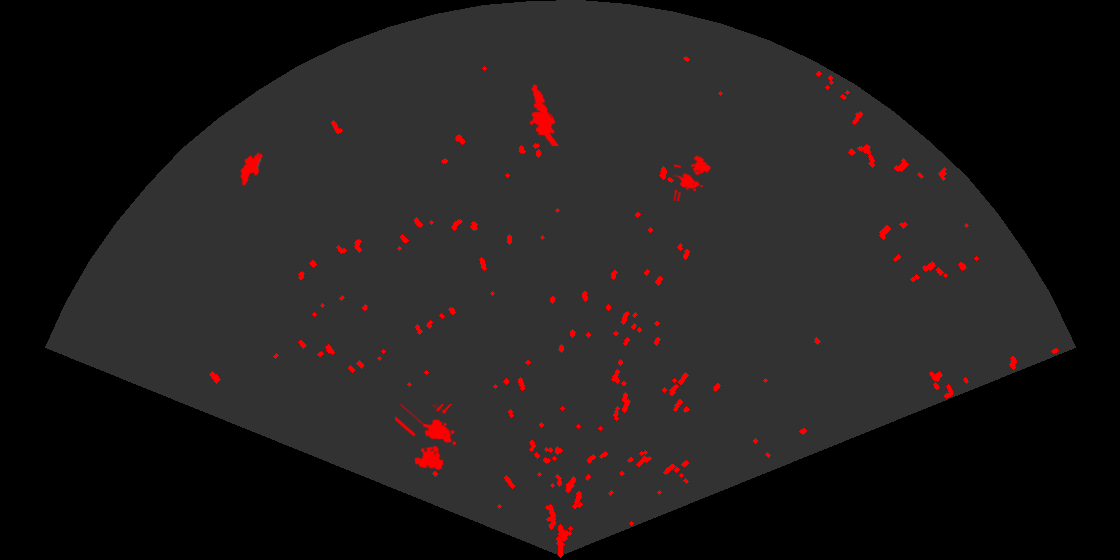AUV: (239, 151, 265, 188)
cage: (395, 404, 458, 472), (674, 153, 713, 201)
frogman: (528, 83, 560, 146)
